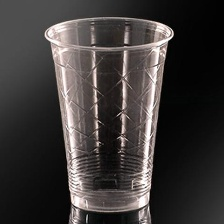glass: (40, 12, 178, 215)
